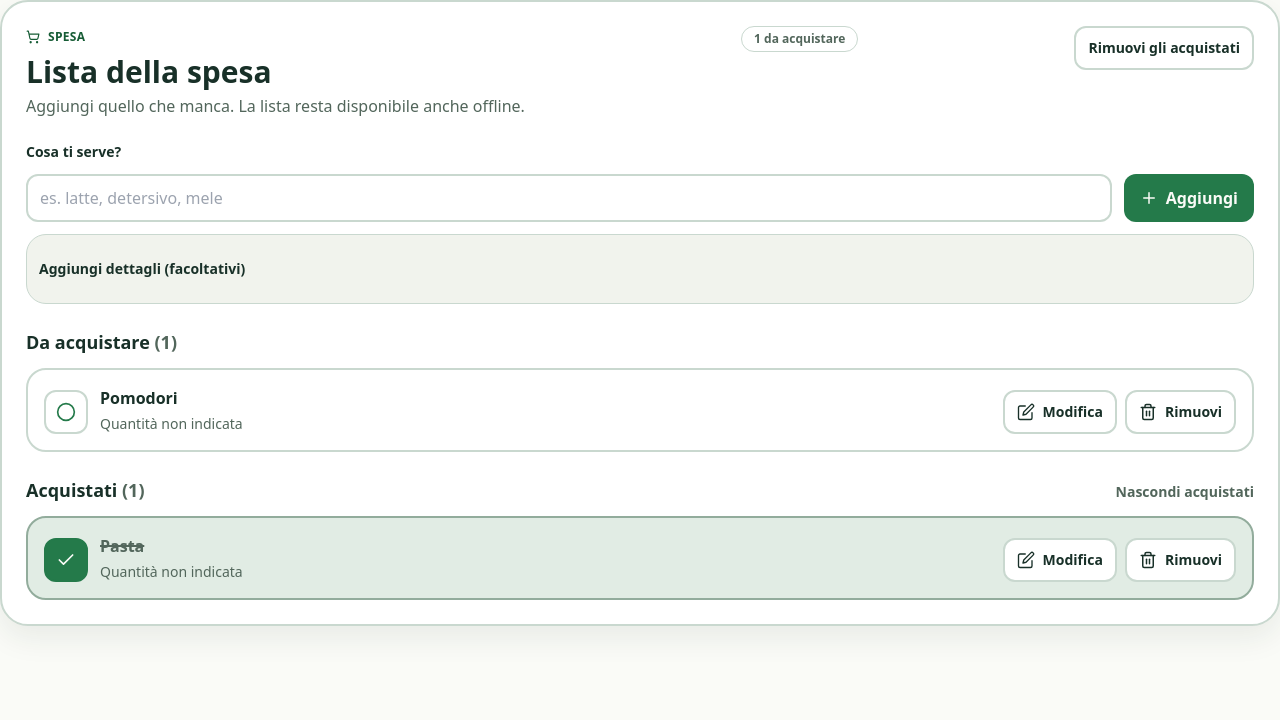
ShoppingListPanel › shows and hides the purchased section through its toggle
Expected: the heading "Acquistati (1)" is shown, [26, 476, 144, 504]
Expected: the text "Pasta" is shown, [100, 535, 144, 557]
Click the button "Nascondi acquistati": [1185, 492] box [1116, 482, 1254, 502]
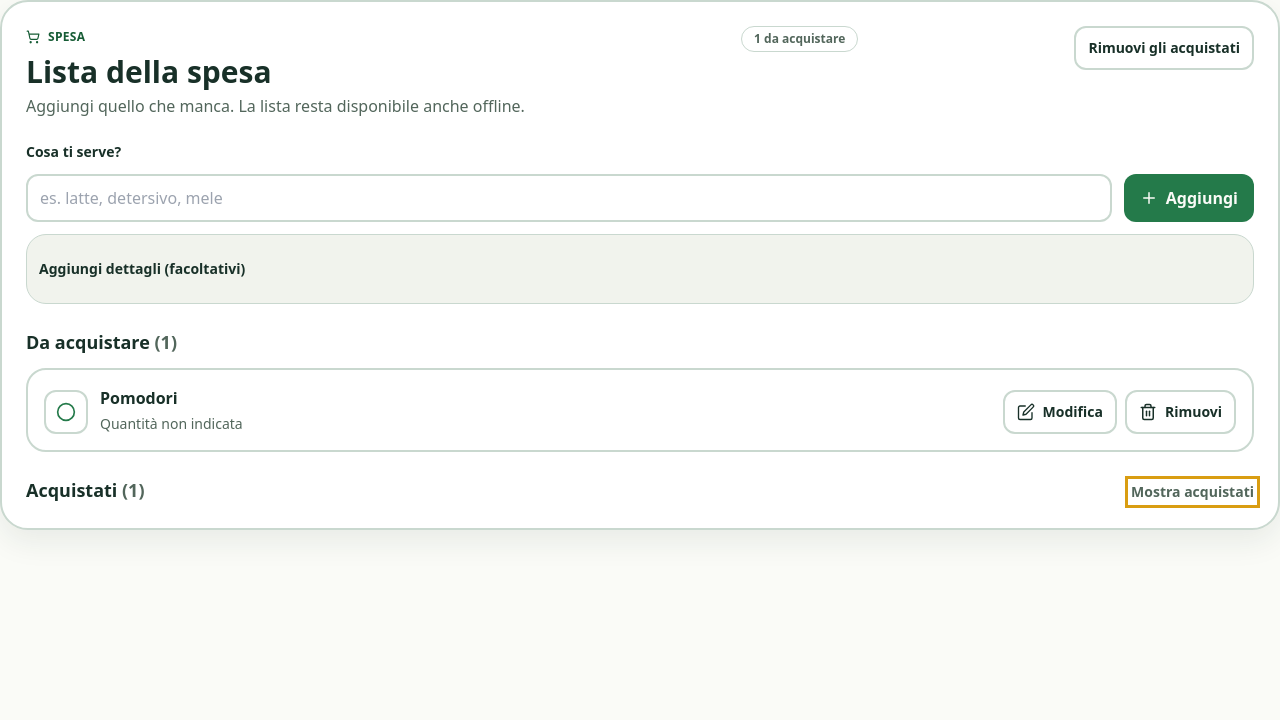
Result: the button "Mostra acquistati" is shown
Result: the text "Pasta" is gone
Click the button "Mostra acquistati": [1193, 492] box [1131, 482, 1254, 502]
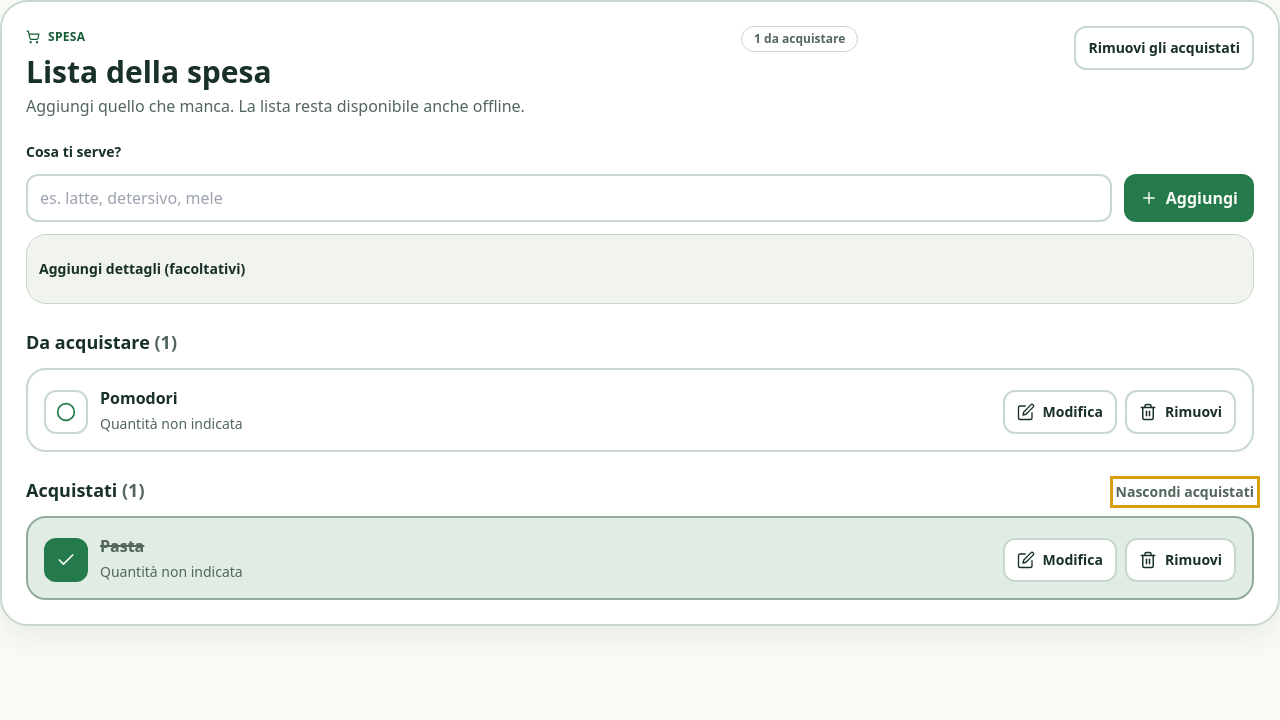
Result: the text "Pasta" is shown at [100, 535, 144, 557]
